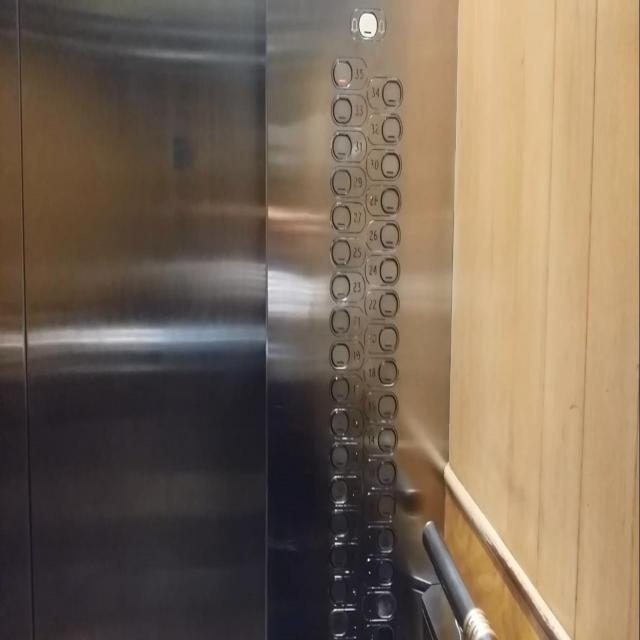11: (362, 454, 398, 488)
14: (362, 420, 400, 456)
15: (362, 386, 399, 422)
18: (362, 354, 400, 388)
19: (327, 336, 366, 372)
21: (328, 302, 367, 339)
22: (363, 286, 400, 320)
23: (328, 268, 366, 304)
24: (364, 250, 401, 287)
25: (328, 233, 366, 269)
26: (365, 216, 402, 252)
27: (328, 198, 366, 234)
28: (364, 181, 402, 217)
29: (328, 163, 367, 199)
30: (365, 145, 403, 182)
31: (328, 127, 368, 164)
32: (366, 109, 404, 147)
33: (329, 90, 368, 128)
34: (366, 72, 404, 110)
35: (330, 52, 370, 91)
alarm: (348, 5, 387, 44)
blur: (364, 320, 399, 355)
empty: (327, 568, 362, 606), (362, 488, 397, 522), (362, 520, 396, 555), (362, 586, 396, 621), (328, 404, 364, 437), (328, 472, 362, 506), (329, 438, 362, 472), (328, 371, 364, 402), (327, 606, 360, 639), (328, 507, 362, 539), (362, 555, 395, 587), (328, 539, 362, 570)
